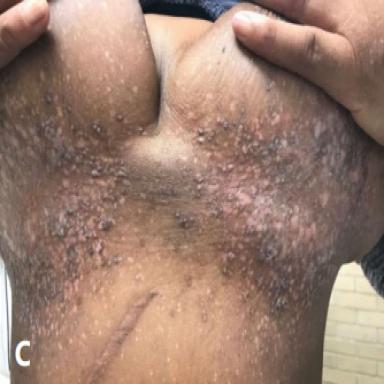Darier_s-Disease: (172, 97, 374, 348), (2, 83, 138, 340)
